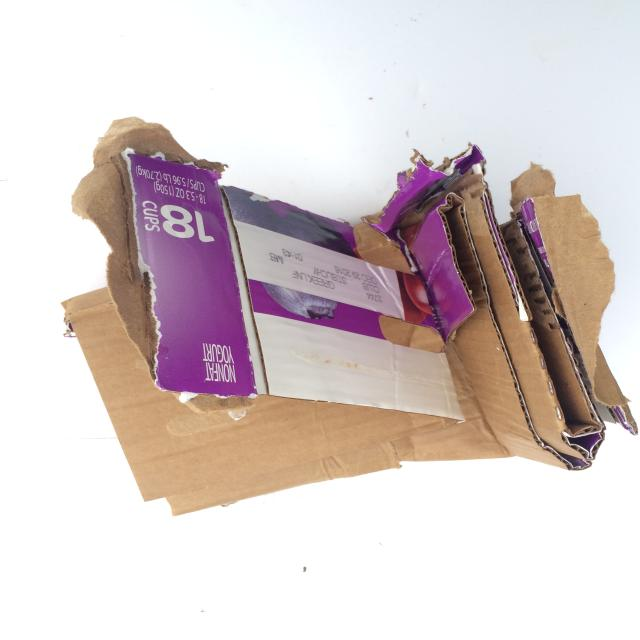cardboard: (61, 130, 630, 516)
